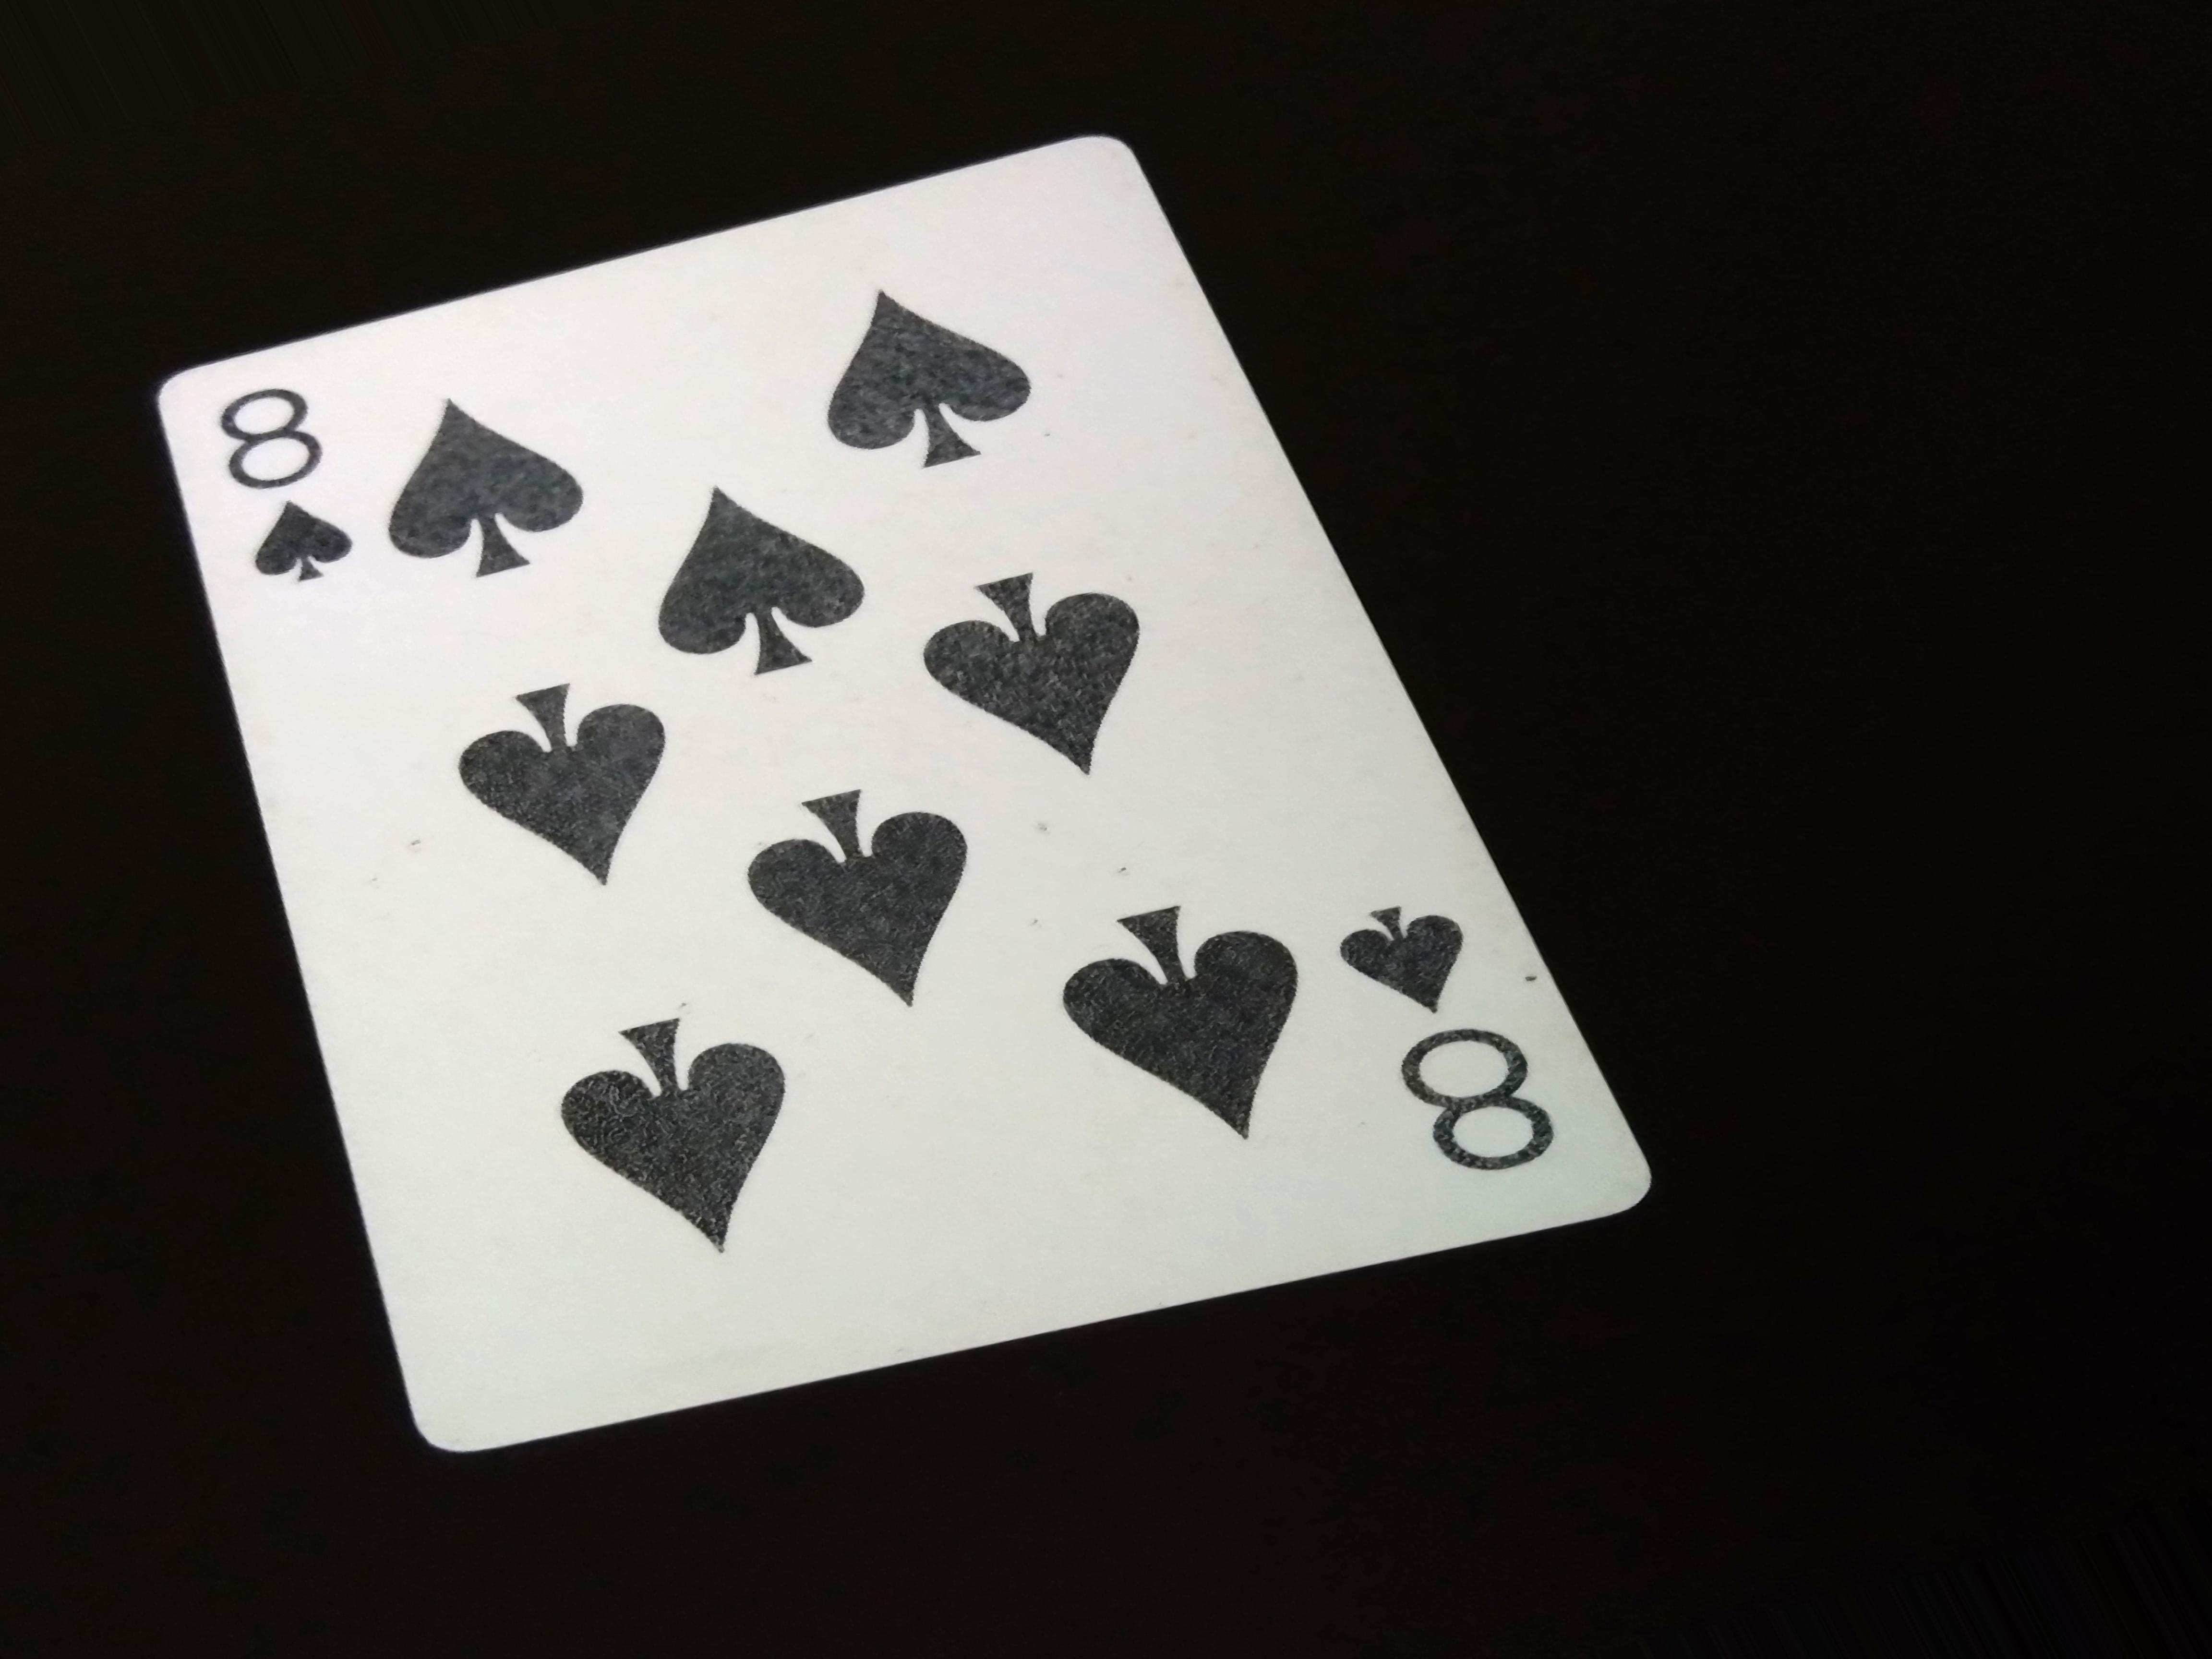8S: (206, 380, 364, 633)
